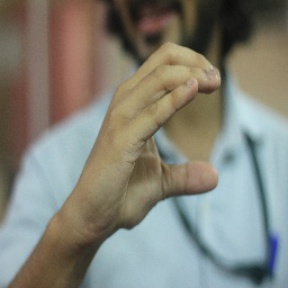C: (110, 40, 228, 207)
